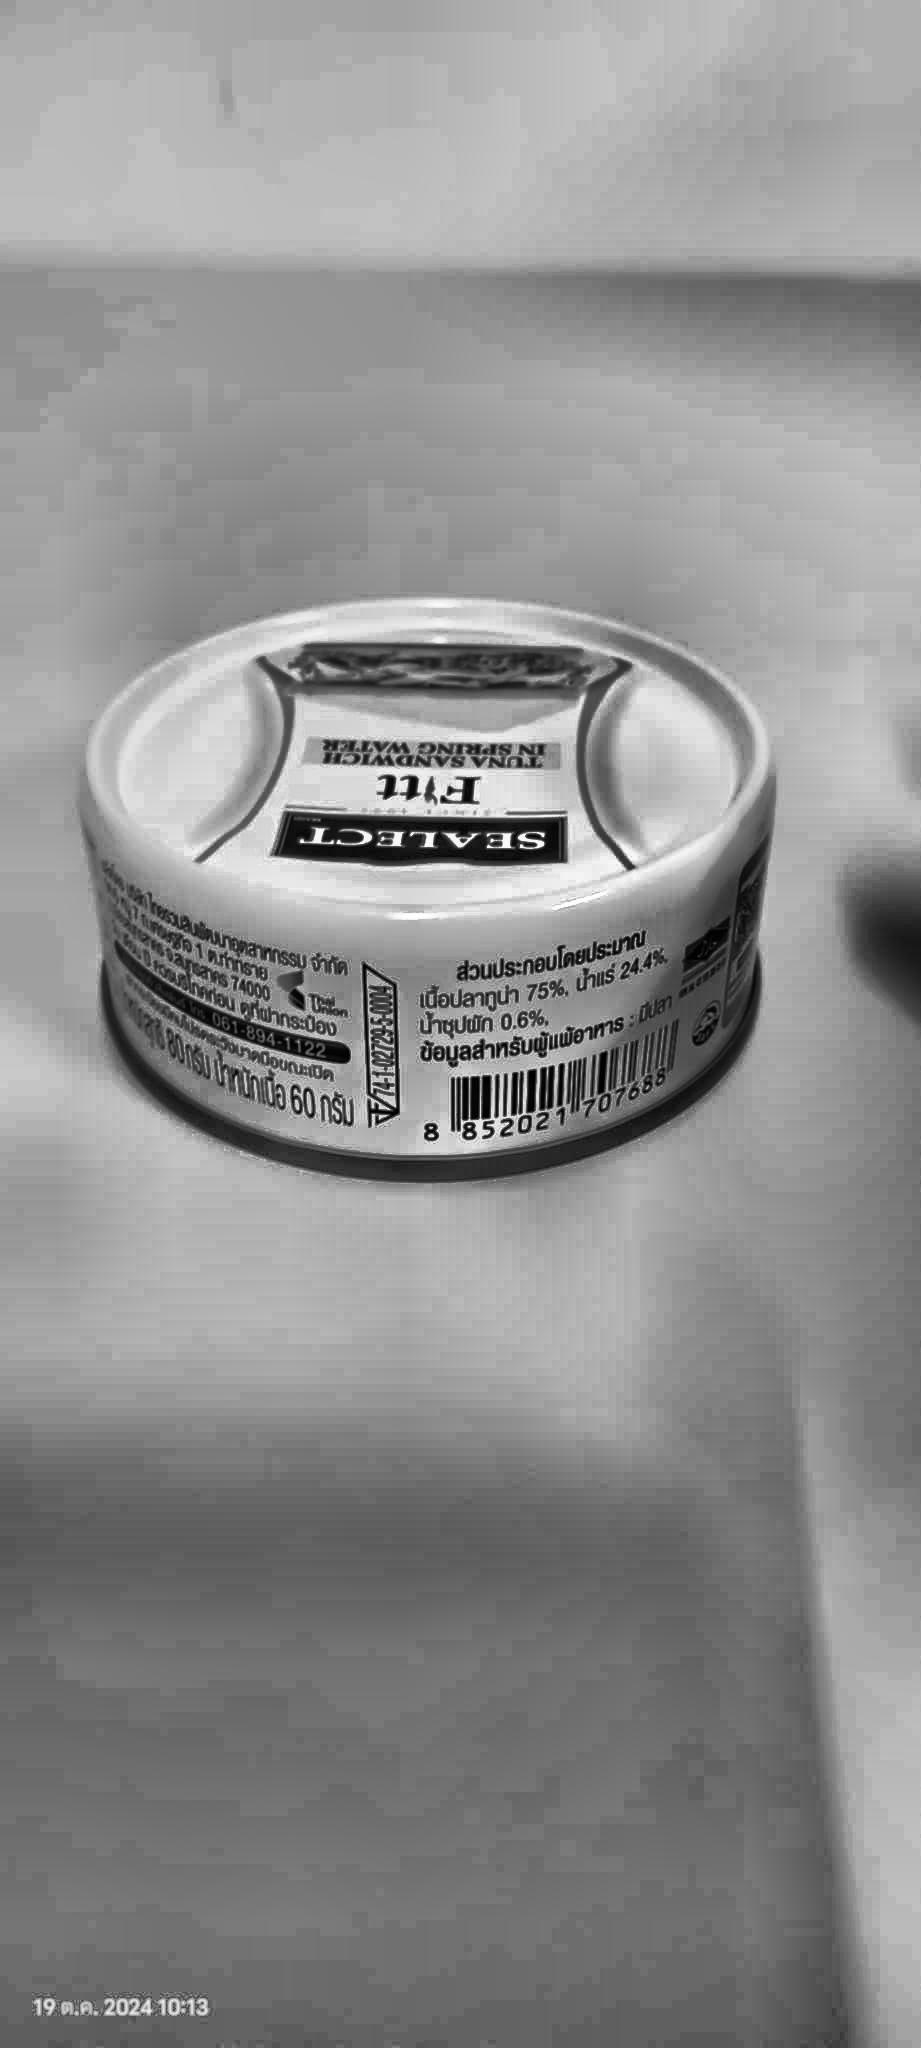can: (56, 506, 815, 1290)
